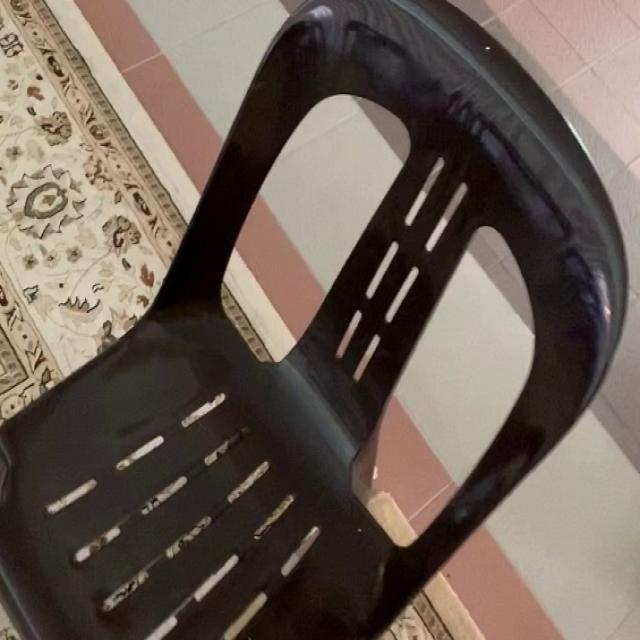chair: (4, 4, 634, 640)
